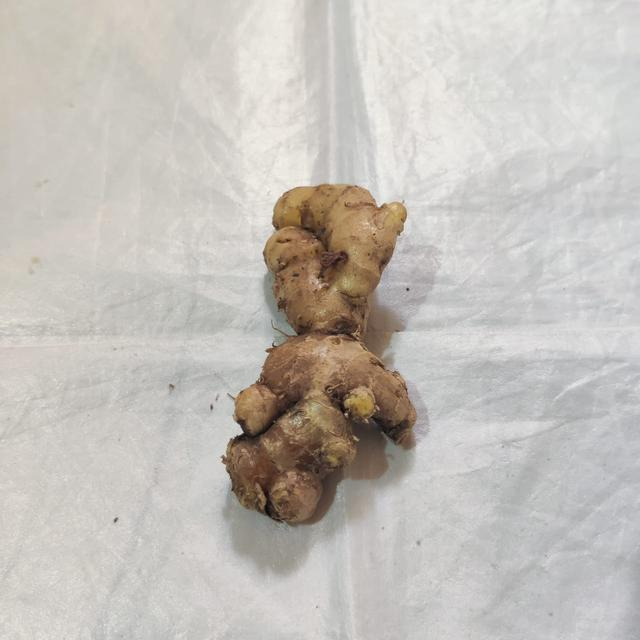Organik: (223, 182, 418, 528)
